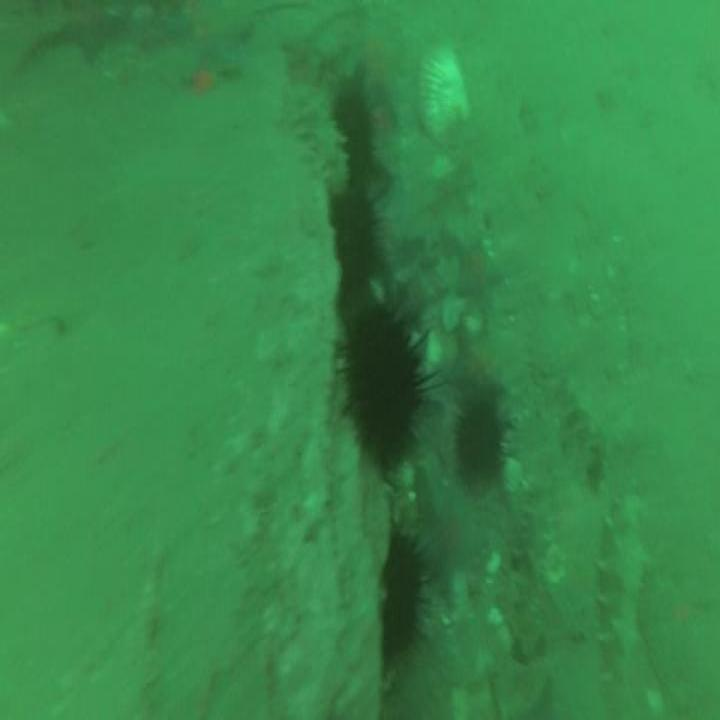echinus: (345, 316, 418, 457), (381, 542, 418, 660), (335, 196, 378, 286), (456, 402, 501, 482), (338, 93, 373, 164)
holothurian: (595, 491, 645, 693), (290, 86, 342, 180)
scallop: (420, 46, 471, 144)
starfish: (412, 464, 485, 592), (195, 22, 252, 78), (456, 234, 498, 306)
